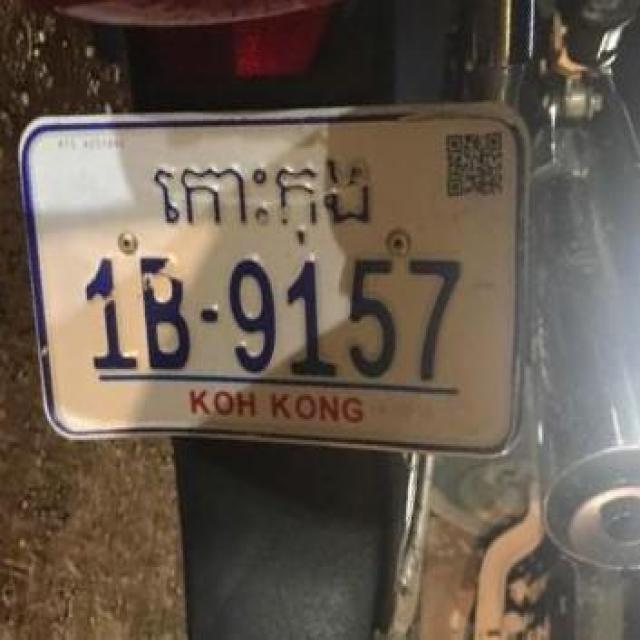Koh_Kong: (154, 154, 372, 245)
